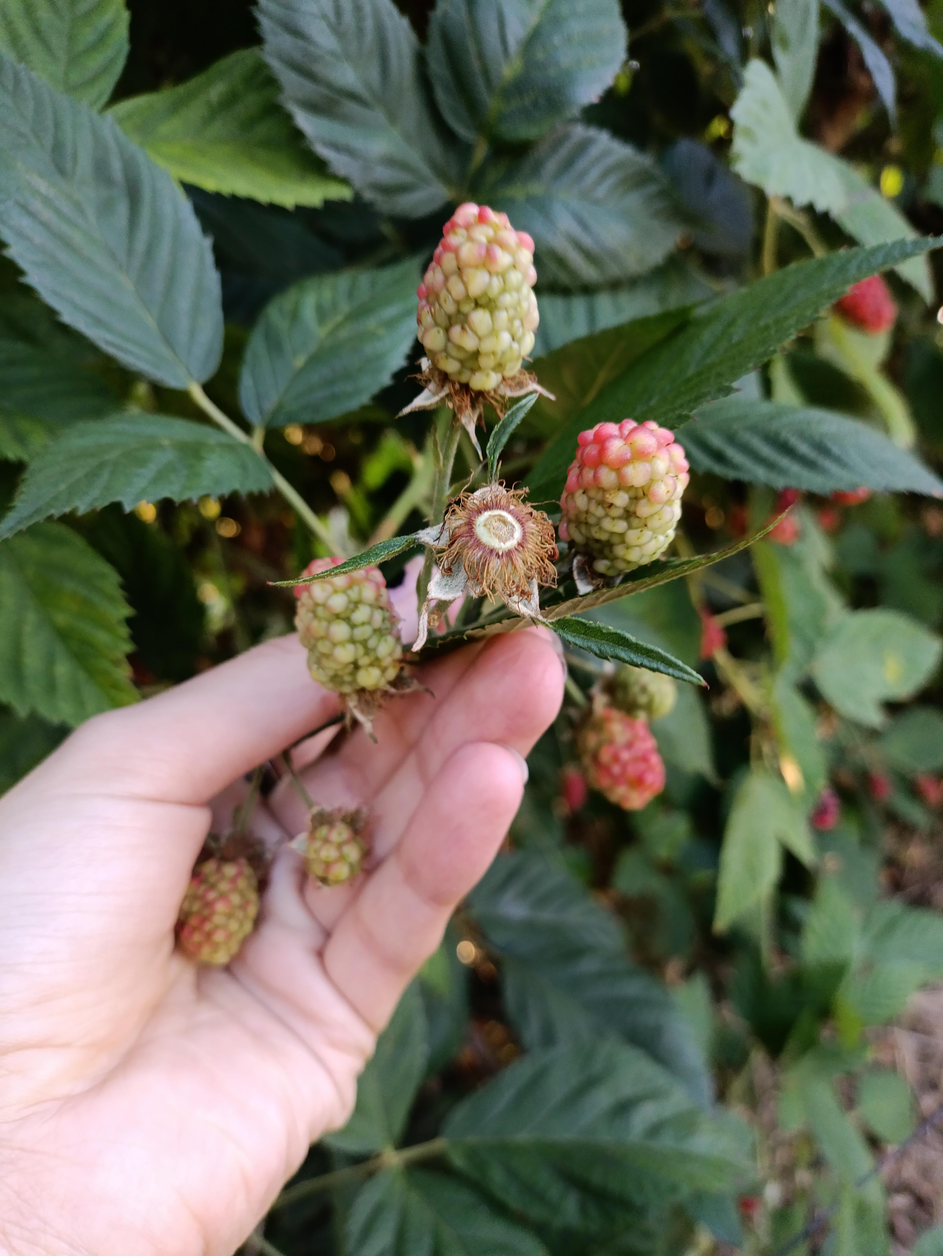verde: (417, 203, 539, 431), (560, 421, 689, 577), (296, 575, 402, 694), (177, 858, 259, 966)
